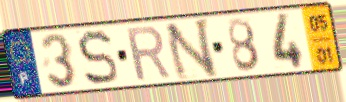3: (38, 31, 80, 92)
4: (270, 11, 307, 72)
8: (226, 17, 262, 74)
N: (162, 16, 220, 83)
R: (123, 23, 174, 84)
S: (75, 27, 121, 88)
